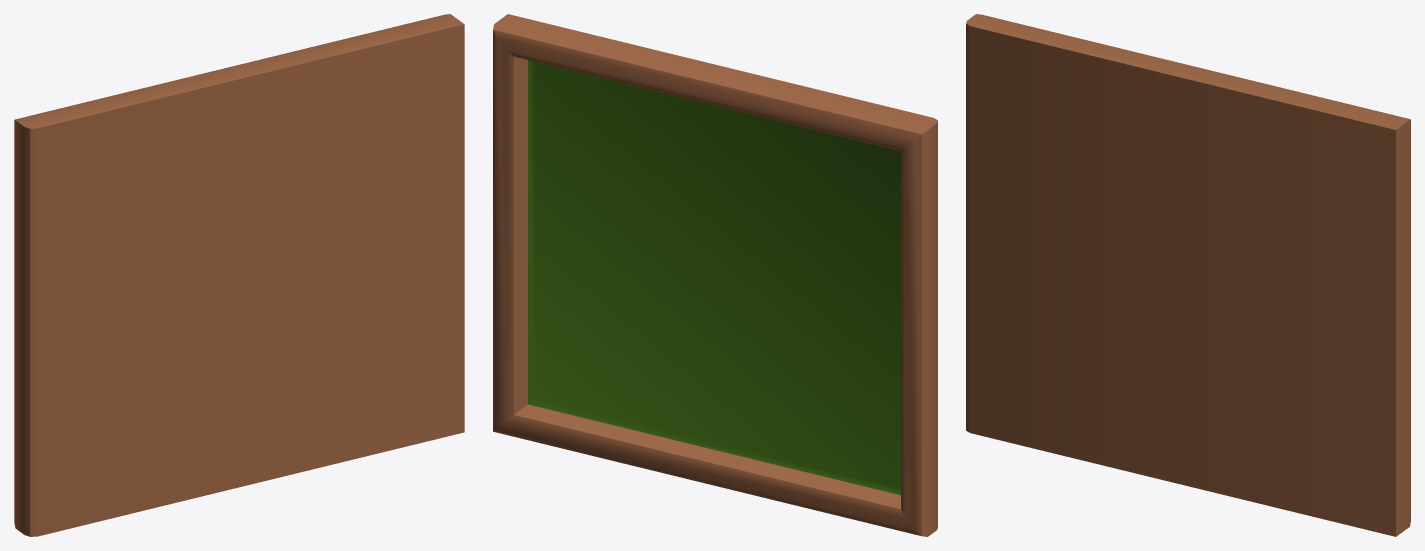
File: blackboard2.glb
3 renders of one model, left to right at view 1: azimuth 30°, elevation 25°; view 2: azimuth 150°, elevation 25°; view 3: azimuth 330°, elevation 25°, orthographic.
Visible parts, largest first — view 1: Cube.013; view 2: Cube.013; view 3: Cube.013.
Boxes of the visible parts, x1=… form: Cube.013: x1=14, y1=14, x2=464, y2=536; Cube.013: x1=493, y1=14, x2=937, y2=536; Cube.013: x1=966, y1=14, x2=1410, y2=536.
Bounding box in the file's own units: 1.48 × 1.33 × 0.1107.
1 material, 1 textured.
